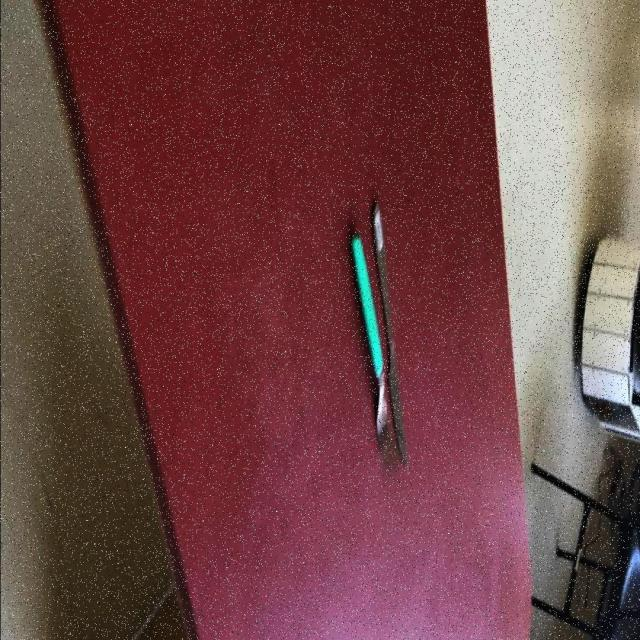Fork: (374, 366, 390, 451)
Knife: (372, 203, 411, 473), (350, 235, 390, 450)
